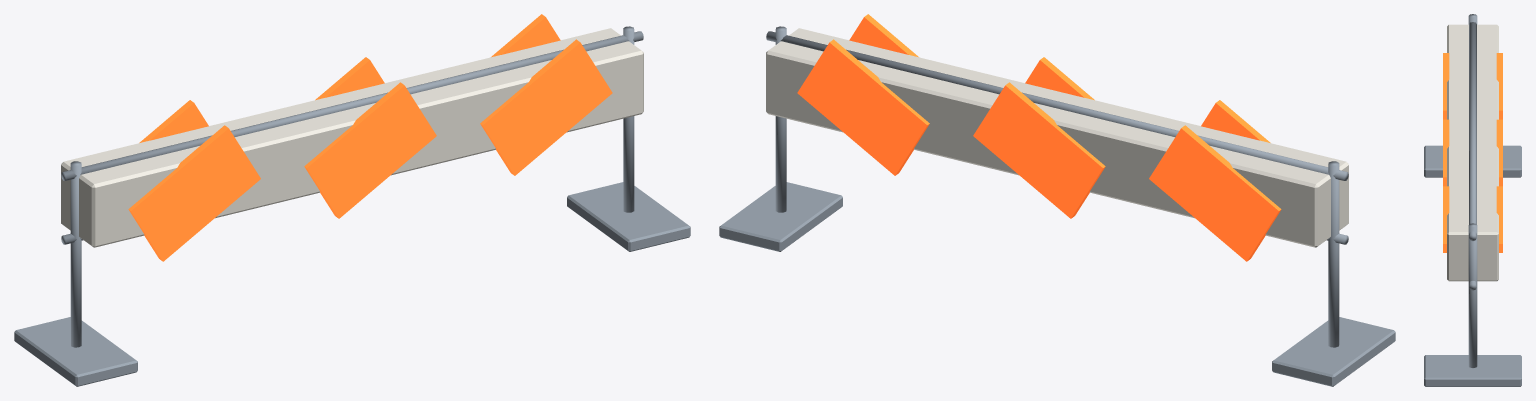
Rendered from bl_police_barrier.gltf.
The picture shows the model from 3 angles, left to right: view 1: azimuth 30°, elevation 25°; view 2: azimuth 150°, elevation 25°; view 3: azimuth 270°, elevation 25°; orthographic projection. The views are drawn at different scales.
Parts seen in each view (by area): view 1: board, stripe1-1, stripe0-1, stripe2-1, foot.001, foot, rail, upright, upright.001, stripe21, stripe11, stripe01; view 2: board, stripe11, stripe01, stripe21, foot.001, foot, rail, upright, upright.001, stripe2-1, stripe1-1, stripe0-1; view 3: board, foot.001, rail, upright.001, foot, stripe1-1, stripe11, stripe0-1, stripe01, stripe2-1, stripe21.
Part boxes in pixels (left/top/right/bottom): board: left=61, top=28, right=643, bottom=247; stripe1-1: left=304, top=82, right=436, bottom=218; stripe0-1: left=128, top=125, right=260, bottom=261; stripe2-1: left=480, top=39, right=612, bottom=175; foot.001: left=567, top=182, right=690, bottom=251; foot: left=14, top=317, right=137, bottom=386; rail: left=61, top=31, right=643, bottom=180; upright: left=70, top=161, right=81, bottom=347; upright.001: left=623, top=26, right=634, bottom=212; stripe21: left=491, top=14, right=560, bottom=57; stripe11: left=315, top=57, right=384, bottom=100; stripe01: left=139, top=100, right=208, bottom=142; board: left=766, top=28, right=1348, bottom=247; stripe11: left=973, top=82, right=1105, bottom=218; stripe01: left=1149, top=125, right=1281, bottom=261; stripe21: left=797, top=39, right=929, bottom=175; foot.001: left=719, top=182, right=842, bottom=251; foot: left=1272, top=317, right=1395, bottom=386; rail: left=766, top=31, right=1348, bottom=180; upright: left=1328, top=161, right=1339, bottom=347; upright.001: left=775, top=26, right=786, bottom=212; stripe2-1: left=849, top=14, right=918, bottom=57; stripe1-1: left=1025, top=57, right=1094, bottom=100; stripe0-1: left=1201, top=100, right=1270, bottom=142; board: left=1447, top=24, right=1498, bottom=281; foot.001: left=1424, top=355, right=1521, bottom=386; rail: left=1469, top=22, right=1476, bottom=240; upright.001: left=1468, top=223, right=1477, bottom=367; foot: left=1424, top=145, right=1521, bottom=177; stripe1-1: left=1443, top=119, right=1449, bottom=186; stripe11: left=1496, top=119, right=1502, bottom=186; stripe0-1: left=1443, top=53, right=1449, bottom=119; stripe01: left=1496, top=53, right=1502, bottom=119; stripe2-1: left=1443, top=186, right=1449, bottom=252; stripe21: left=1496, top=186, right=1502, bottom=252.
Bounding box in the file's own units: 3.72 × 1.22 × 0.66.
